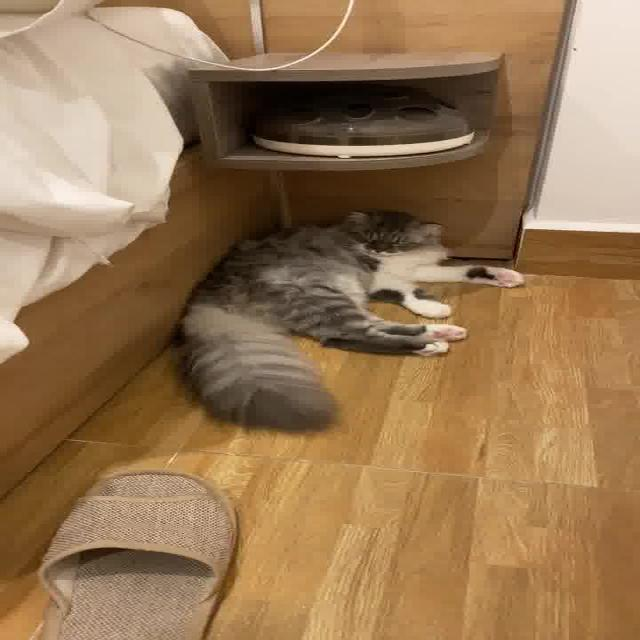cat: (160, 196, 550, 440)
